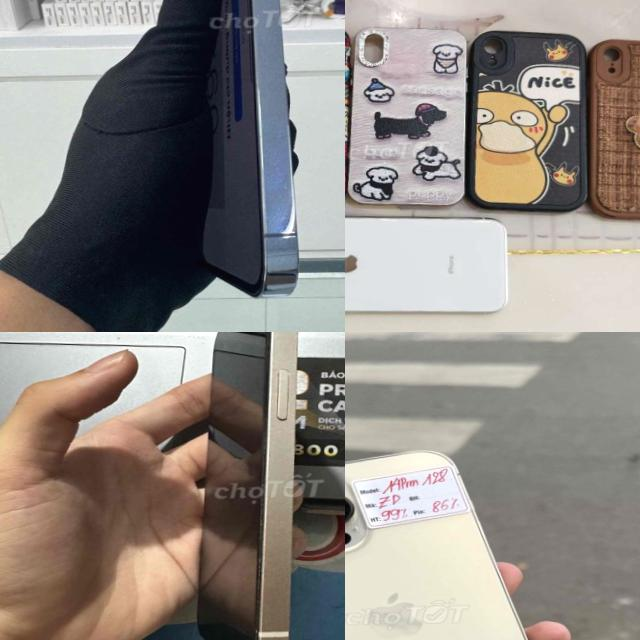gen_12_13: (177, 0, 315, 298), (203, 332, 336, 640)
gen_14: (345, 440, 583, 640)
gen_x_xs: (345, 212, 520, 325)
